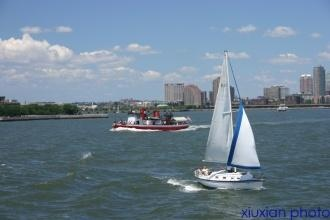fanchuan: (185, 53, 273, 190)
otherboat: (103, 103, 193, 132)
